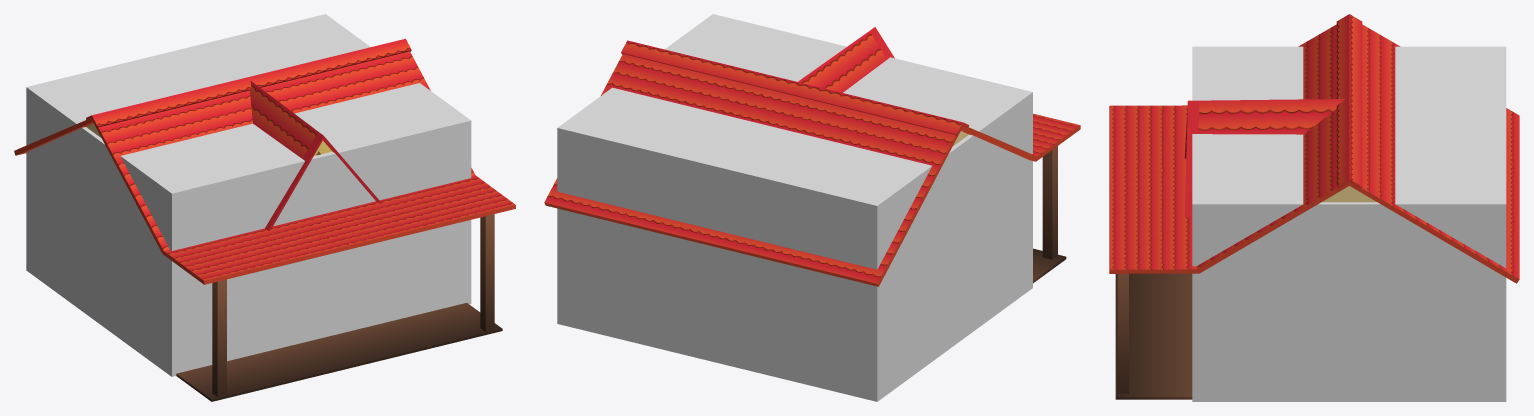
Rendered from RumahBOBON.fbx.
3 renders of one model, left to right at view 1: azimuth 30°, elevation 25°; view 2: azimuth 150°, elevation 25°; view 3: azimuth 270°, elevation 25°, orthographic. The views are drawn at different scales.
Parts seen in each view (by area): view 1: Colidder, Houses, Floor, Pillar1, Pillar2; view 2: Colidder, Houses, Pillar1, Floor; view 3: Colidder, Houses, Floor, Pillar2.
Boxes of the visible parts, bbox=[...] form: Colidder: bbox=[26, 14, 471, 376]; Houses: bbox=[14, 38, 515, 284]; Floor: bbox=[176, 303, 502, 401]; Pillar1: bbox=[212, 279, 226, 397]; Pillar2: bbox=[480, 214, 494, 331]; Colidder: bbox=[557, 14, 1032, 401]; Houses: bbox=[544, 27, 1080, 286]; Pillar1: bbox=[1042, 146, 1057, 259]; Floor: bbox=[1033, 248, 1066, 283]; Colidder: bbox=[1192, 46, 1506, 401]; Houses: bbox=[1109, 14, 1519, 283]; Floor: bbox=[1115, 273, 1192, 399]; Pillar2: bbox=[1117, 273, 1128, 393].
Bounding box in the file's own units: 1304 × 834 × 1369.
